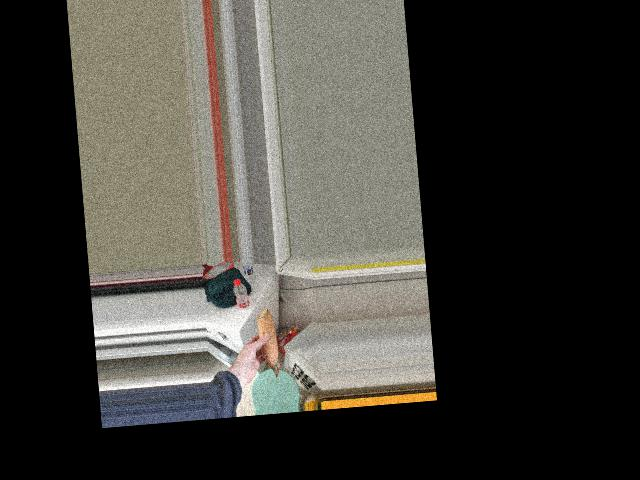sweet_potato: (254, 315, 279, 374)
